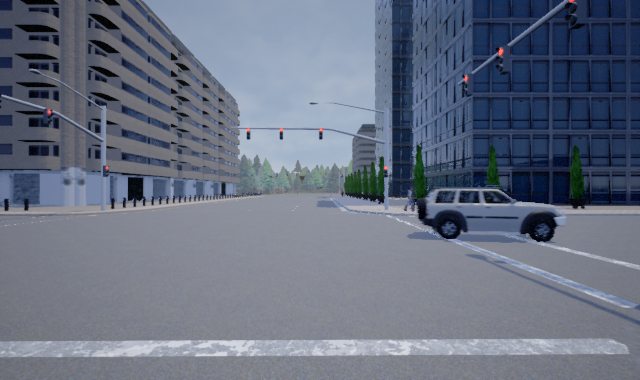pedestrian: (404, 185, 415, 211)
traffic_light: (567, 1, 588, 30), (496, 42, 513, 75), (462, 73, 475, 97), (44, 107, 53, 128), (102, 165, 110, 179), (245, 128, 252, 139), (279, 127, 284, 141), (383, 165, 389, 176), (318, 128, 323, 141)
vehicle: (416, 187, 565, 241)
